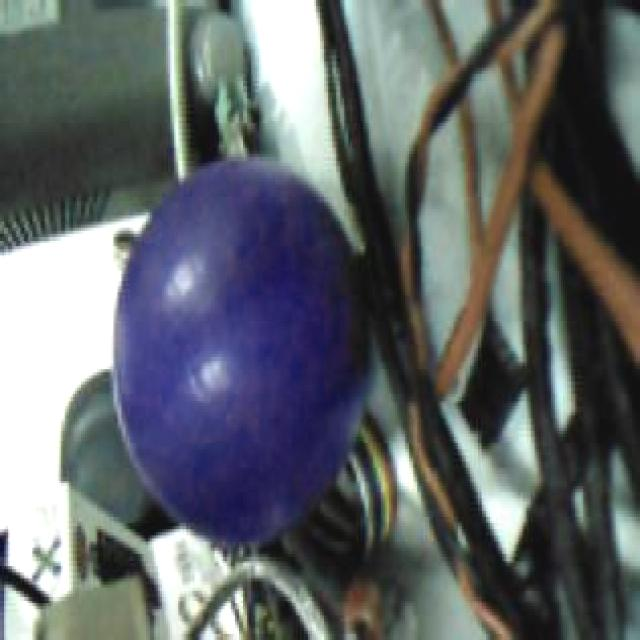BallPurple: (112, 159, 375, 541)
